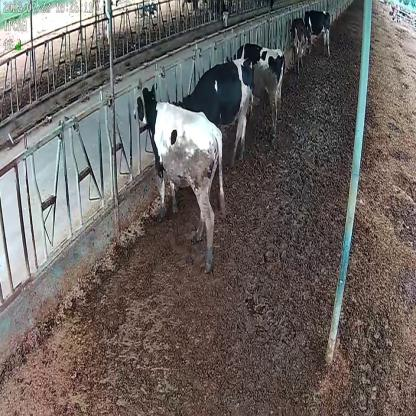cow: (133, 82, 228, 276), (169, 57, 254, 168), (231, 41, 285, 143), (290, 16, 307, 74)
